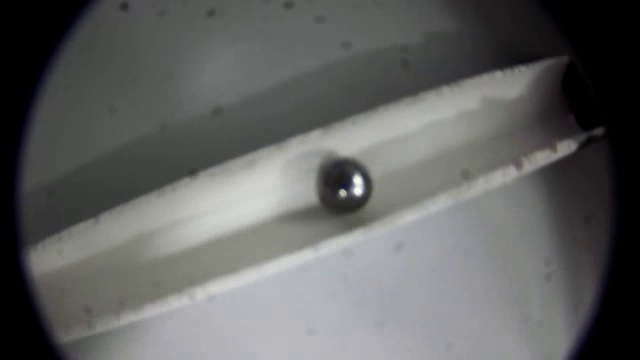gangzhu: (316, 154, 376, 215)
